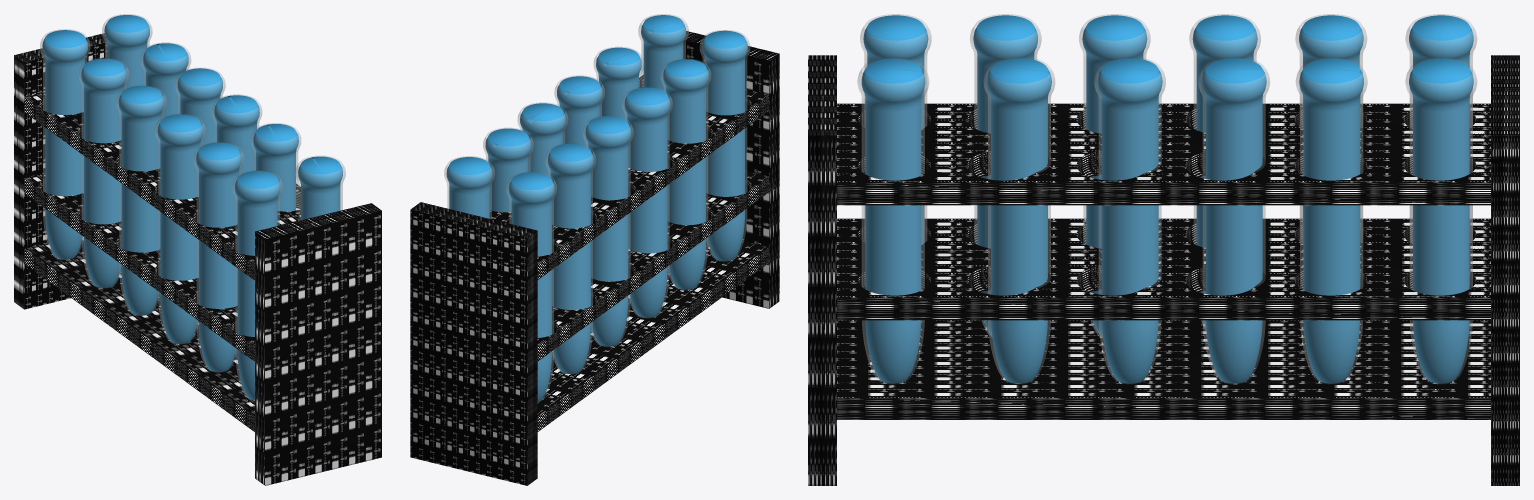
The model's file is test_tubes_1.fbx.
3 renders of one model, left to right at view 1: azimuth 30°, elevation 25°; view 2: azimuth 150°, elevation 25°; view 3: azimuth 270°, elevation 25°, orthographic. The views are drawn at different scales.
Visible parts, largest first — view 1: Cube.003_4, Cube.002_3, Cube.004_5, Cube.001_2, Liquid_R1_C3, Liquid_R1_C4, Liquid_R1_C1, Liquid_R1_C5, Liquid_R1_C2, Tube_R1_C3, Cube_1, Tube_R1_C4 (+17 smaller); view 2: Cube.004_5, Cube.002_3, Cube.003_4, Cube.001_2, Liquid_R1_C4, Cube_1, Liquid_R1_C2, Liquid_R1_C6, Liquid_R1_C5, Liquid_R1_C3, Tube_R1_C4, Tube_R1_C2 (+17 smaller); view 3: Cube.002_3, Cube_1, Cube.001_2, Tube_R2_C6, Tube_R2_C1, Tube_R2_C2, Liquid_R2_C2, Tube_R2_C3, Tube_R2_C5, Tube_R2_C4, Liquid_R2_C1, Liquid_R2_C6 (+17 smaller).
Part boxes in pixels (x1,y1,x2,y2): Cube.003_4: (255, 203, 381, 485); Cube.002_3: (24, 237, 254, 431); Cube.004_5: (14, 33, 107, 309); Cube.001_2: (24, 92, 300, 280); Liquid_R1_C3: (118, 86, 164, 315); Liquid_R1_C4: (157, 114, 203, 343); Liquid_R1_C1: (42, 30, 87, 259); Liquid_R1_C5: (196, 142, 241, 372); Liquid_R1_C2: (81, 58, 126, 287); Tube_R1_C3: (116, 85, 166, 315); Cube_1: (24, 173, 254, 361); Tube_R1_C4: (155, 113, 205, 344); Cube.004_5: (410, 202, 537, 485); Cube.002_3: (537, 238, 768, 431); Cube.003_4: (683, 31, 779, 308); Cube.001_2: (489, 75, 768, 279); Liquid_R1_C4: (624, 87, 670, 317); Cube_1: (537, 171, 768, 361); Liquid_R1_C2: (548, 143, 593, 373); Liquid_R1_C6: (702, 30, 747, 261); Liquid_R1_C5: (663, 59, 708, 289); Liquid_R1_C3: (585, 116, 631, 346); Tube_R1_C4: (622, 87, 672, 318); Tube_R1_C2: (545, 143, 595, 374); Cube.002_3: (837, 320, 1490, 419); Cube_1: (837, 218, 1490, 320); Cube.001_2: (837, 103, 1490, 205); Tube_R2_C6: (857, 57, 928, 383); Tube_R2_C1: (1405, 57, 1476, 383); Tube_R2_C2: (1296, 57, 1367, 383); Liquid_R2_C2: (1299, 58, 1363, 383); Tube_R2_C3: (1198, 57, 1269, 383); Tube_R2_C5: (984, 57, 1054, 383); Tube_R2_C4: (1094, 57, 1165, 383); Liquid_R2_C1: (1409, 58, 1473, 383); Liquid_R2_C6: (861, 58, 925, 383).
Bounding box in the file's own units: 5.22 × 11.9 × 19.48.
